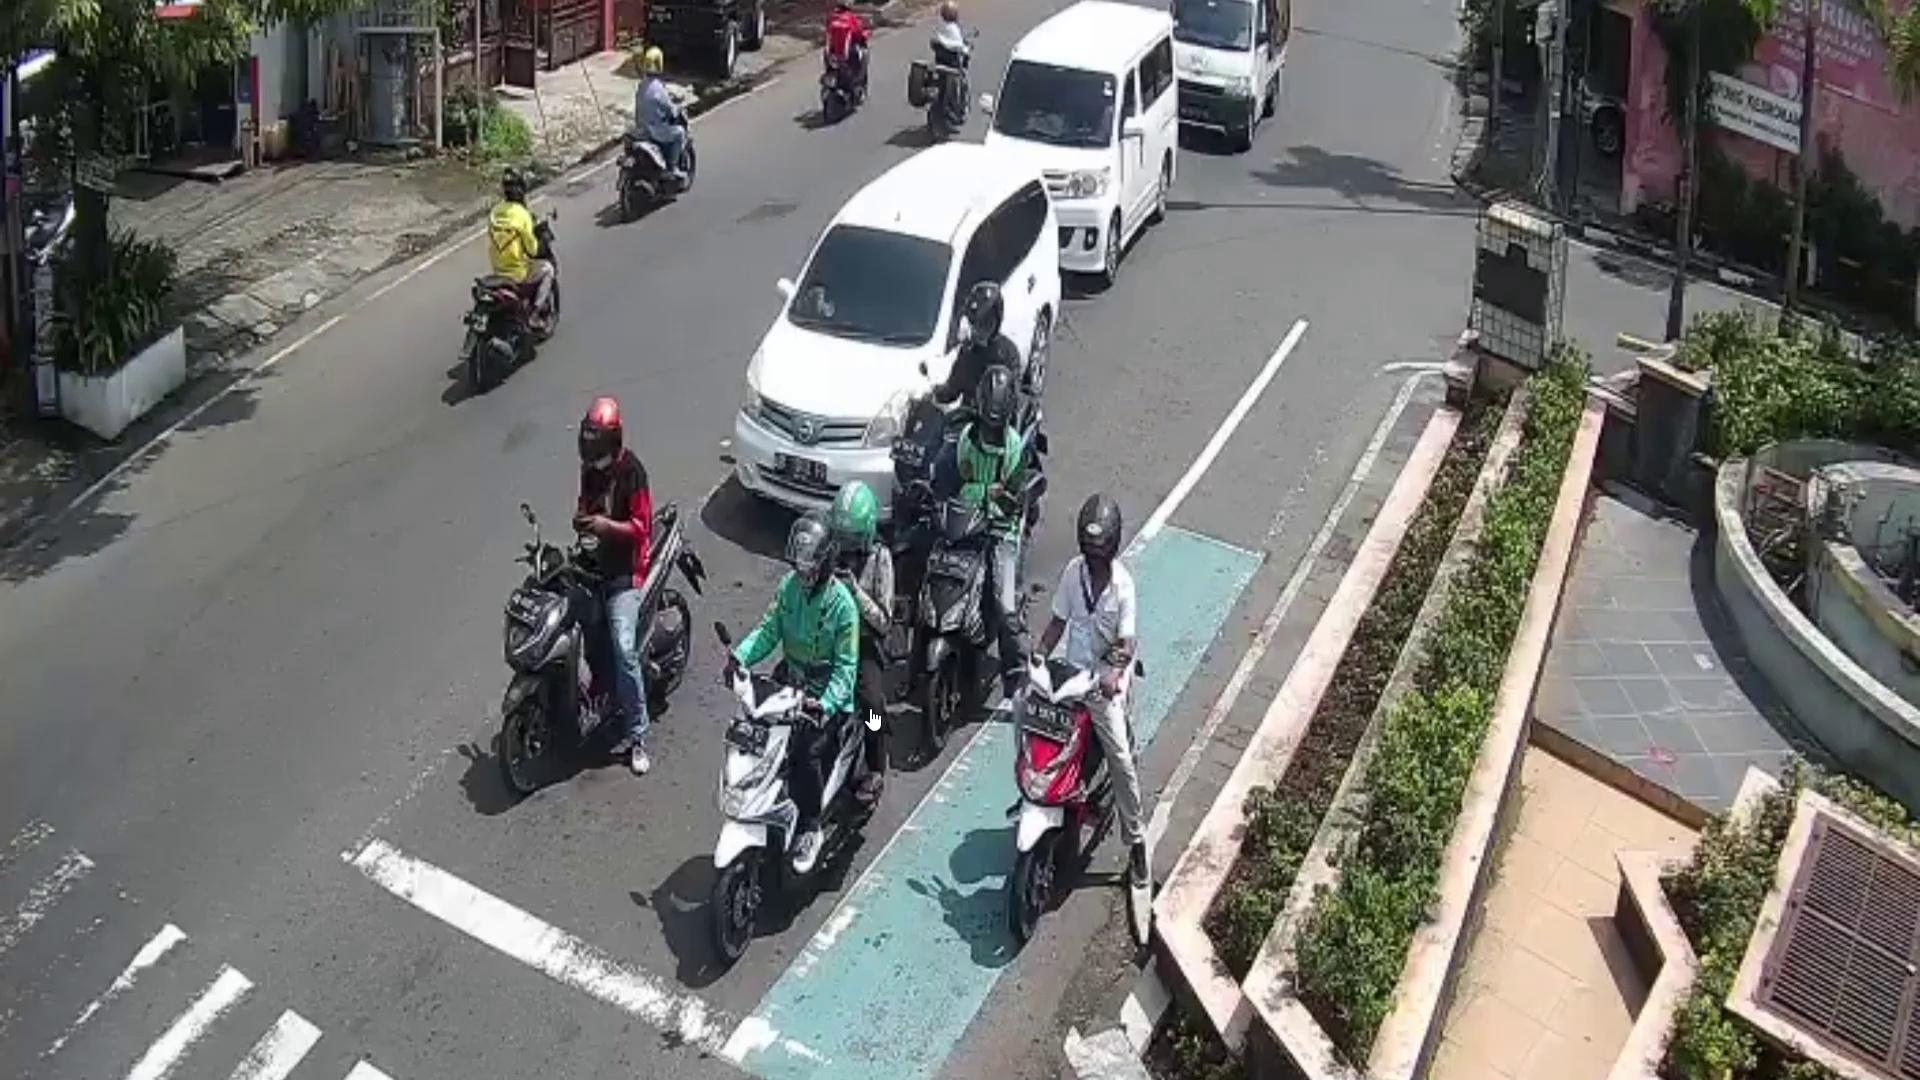car: (728, 137, 1062, 538), (989, 0, 1180, 273), (1172, 0, 1287, 150)
motorbike: (489, 501, 702, 800), (711, 669, 870, 959), (1013, 653, 1116, 936), (914, 501, 998, 753), (460, 214, 560, 392), (621, 84, 695, 219)
